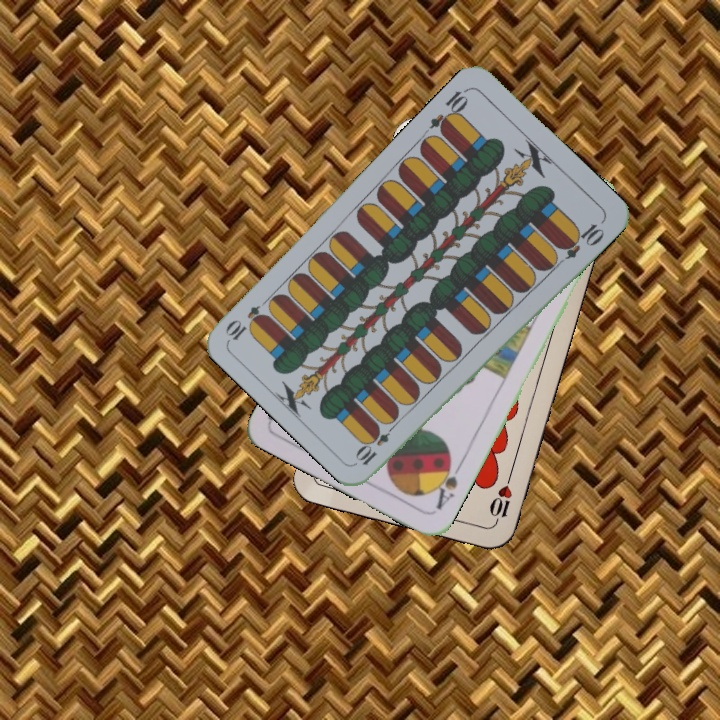E10: (426, 84, 472, 137), (353, 417, 400, 468)
H10: (485, 471, 515, 529)
SA: (429, 454, 465, 513)
